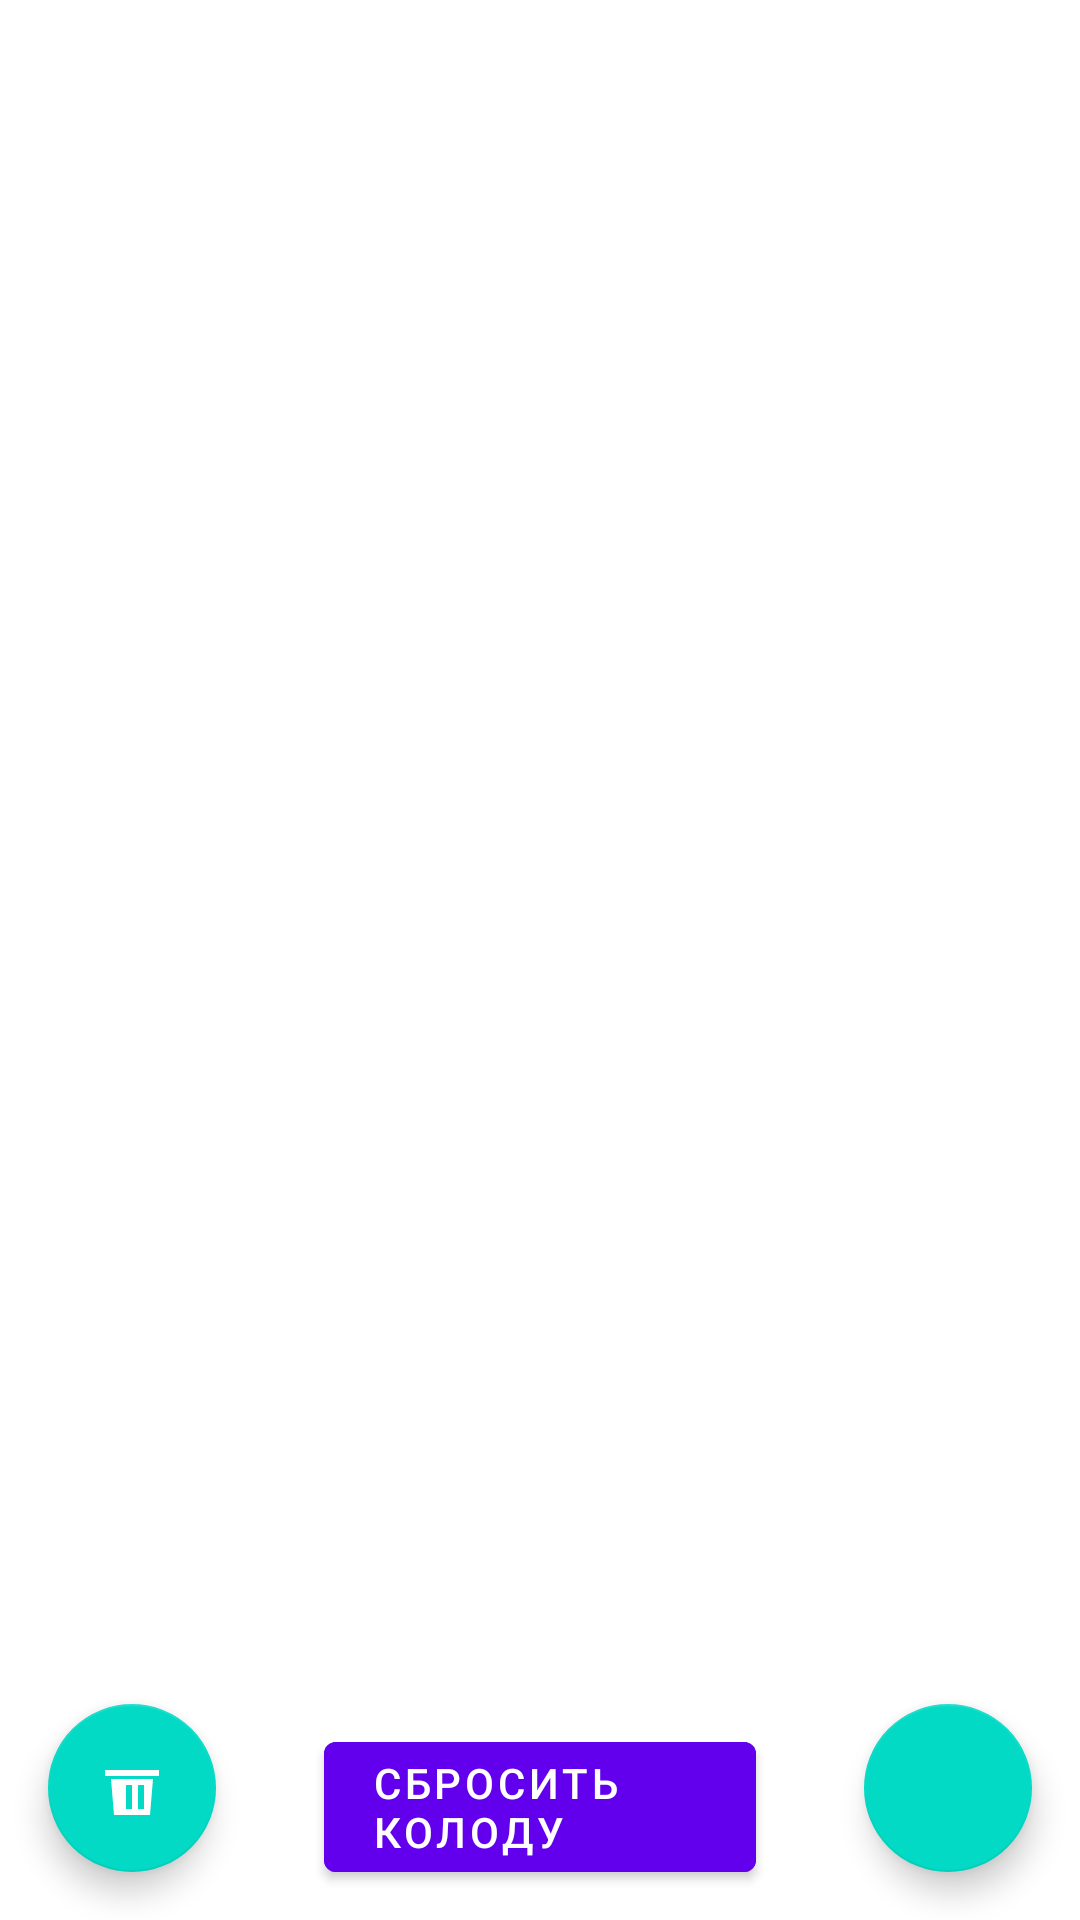

Where icons sit on this 1080 x 1920 app screen, as {"x1": x1, "y1": y1, "x2": x2, "y2": y2}:
delete: {"x1": 48, "y1": 1704, "x2": 216, "y2": 1872}
